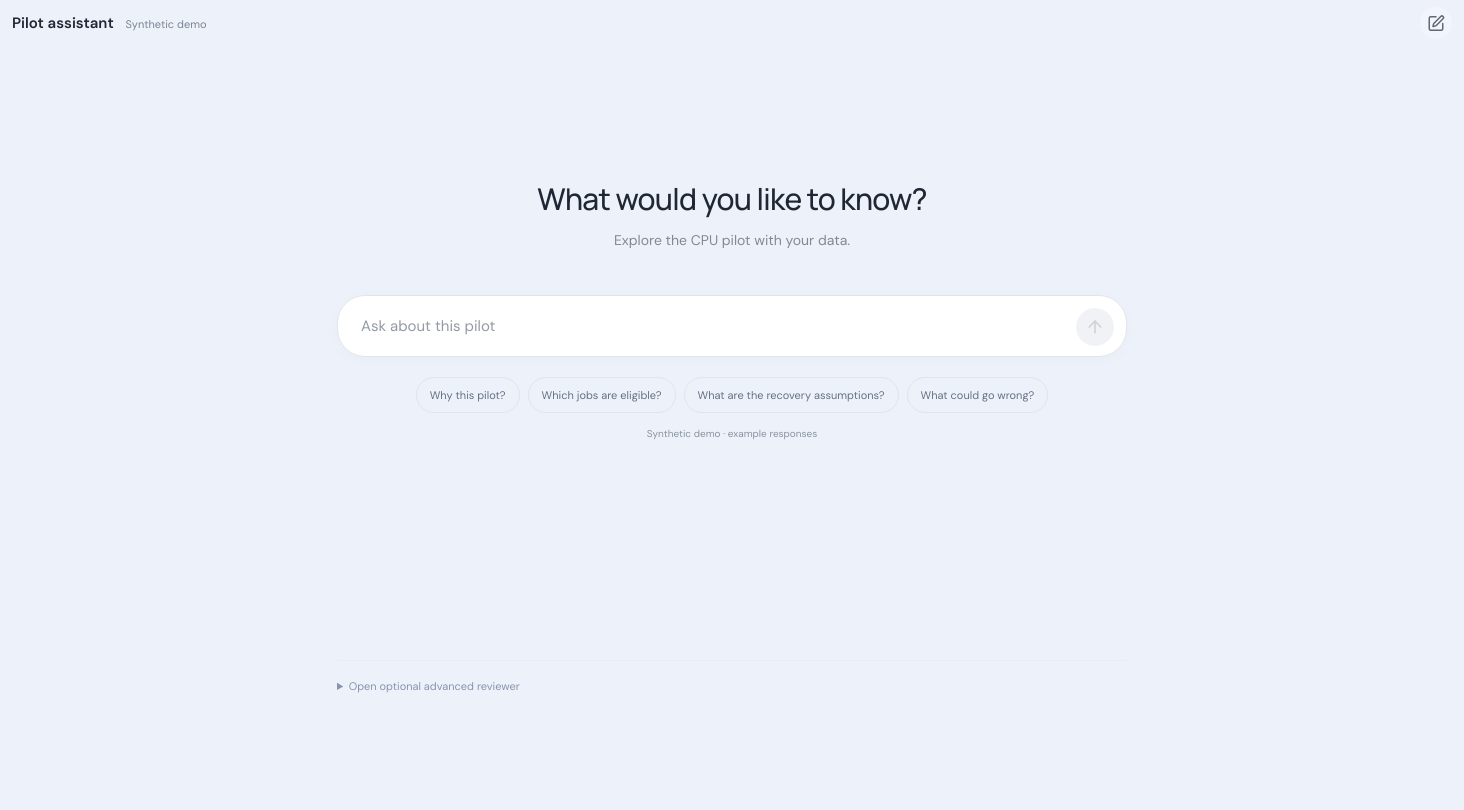
Test case: pilot conversation › discards an in-flight reply after starting a new chat
This screenshot has width=1464, height=810.
Click the button "Why this pilot?".
click(468, 395)  # box [416,377,520,413]
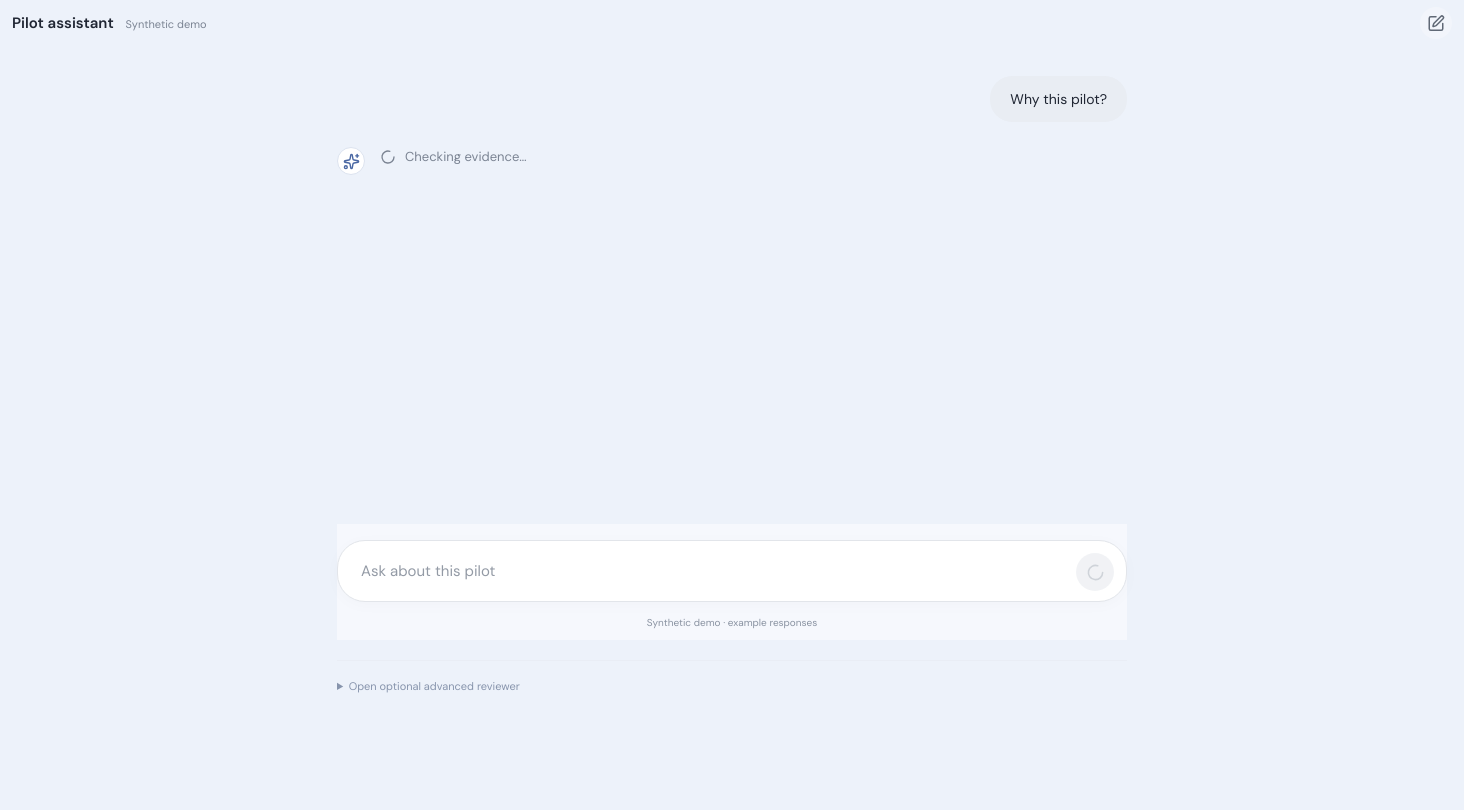
Click the button named "New chat".
click(1436, 23)  # box [1420,7,1452,39]
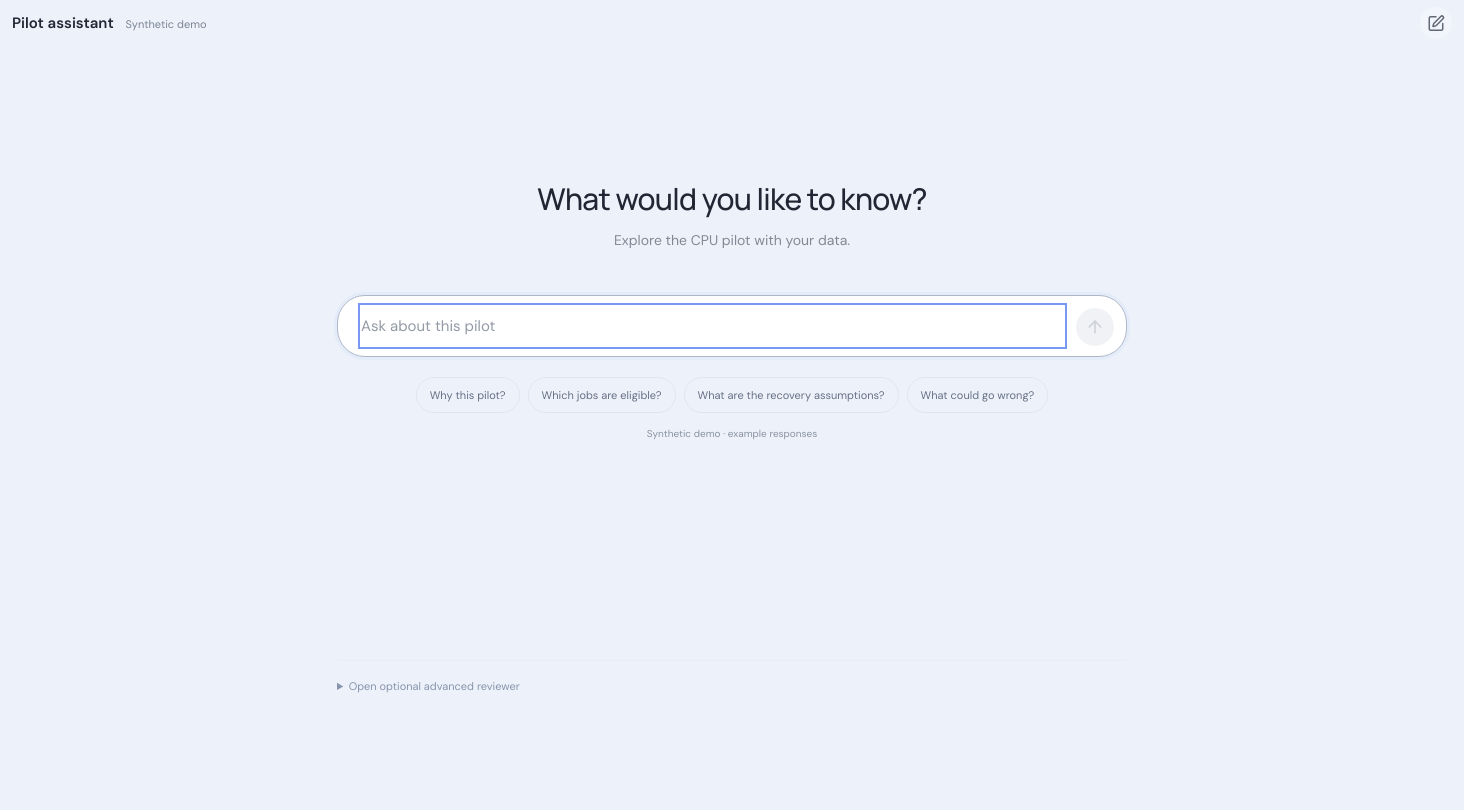
Check: the heading "What would you like to know?" is shown, box [537,178,927,219]
